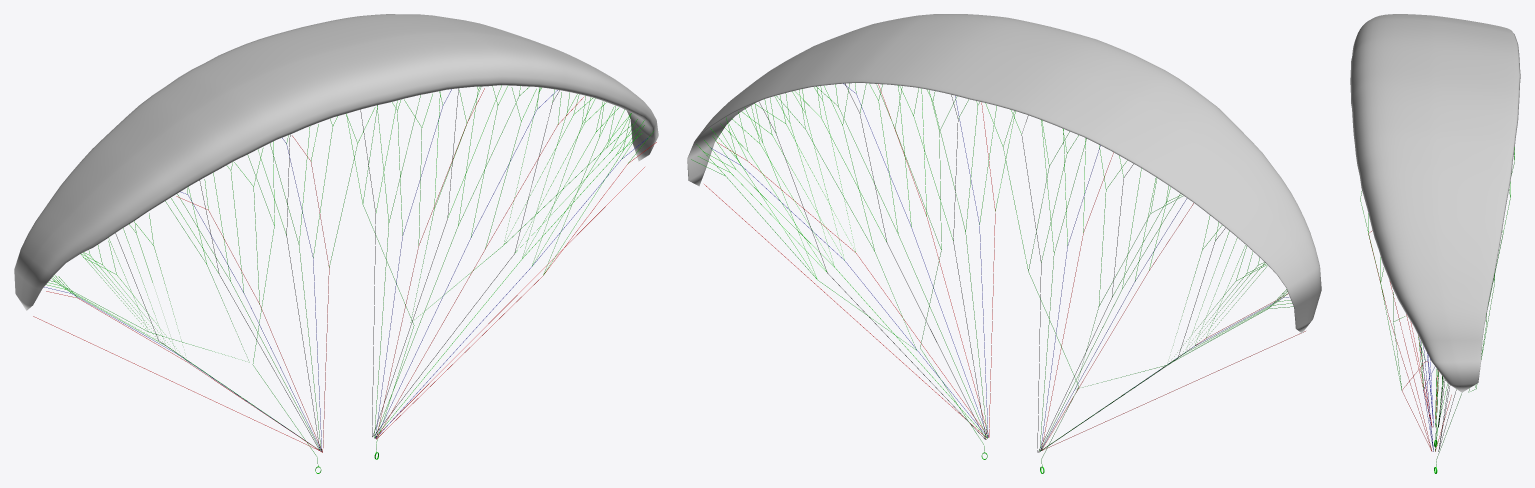
File: gliderLines.obj
The picture shows the model from 3 angles, left to right: view 1: azimuth 30°, elevation 25°; view 2: azimuth 150°, elevation 25°; view 3: azimuth 270°, elevation 25°; orthographic projection. The views are drawn at different scales.
Visible parts, largest first — view 1: ASP4_Mesh, Lines_Mesh.003; view 2: ASP4_Mesh, Lines_Mesh.003; view 3: ASP4_Mesh, Lines_Mesh.003.
Boxes of the visible parts, <box> form: ASP4_Mesh: <box>14,14,658,310</box>; Lines_Mesh.003: <box>33,85,656,473</box>; ASP4_Mesh: <box>687,14,1321,332</box>; Lines_Mesh.003: <box>691,83,1305,473</box>; ASP4_Mesh: <box>1350,14,1520,392</box>; Lines_Mesh.003: <box>1360,147,1514,473</box>.
Bounding box in the file's own units: 7.75 × 5.01 × 1.94.
